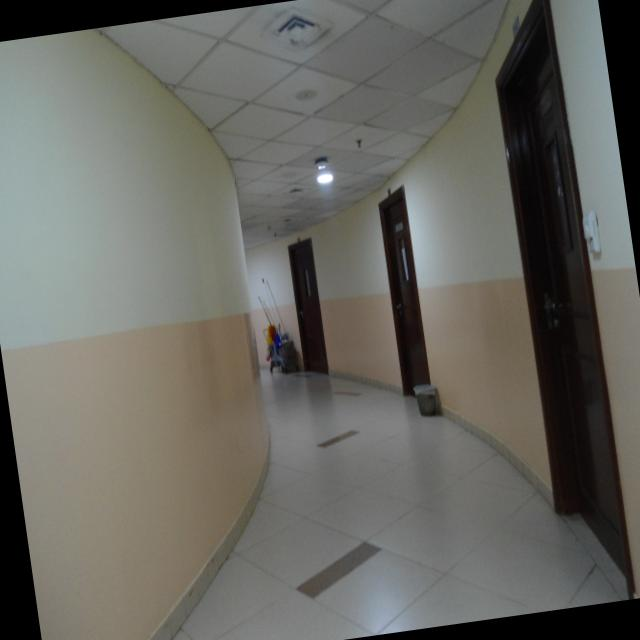cleaningCart: (247, 284, 315, 364), (315, 354, 316, 355)
door: (475, 0, 640, 575), (372, 190, 436, 360), (284, 236, 332, 376)
wall: (298, 0, 640, 597), (0, 29, 269, 640), (245, 234, 301, 364)
